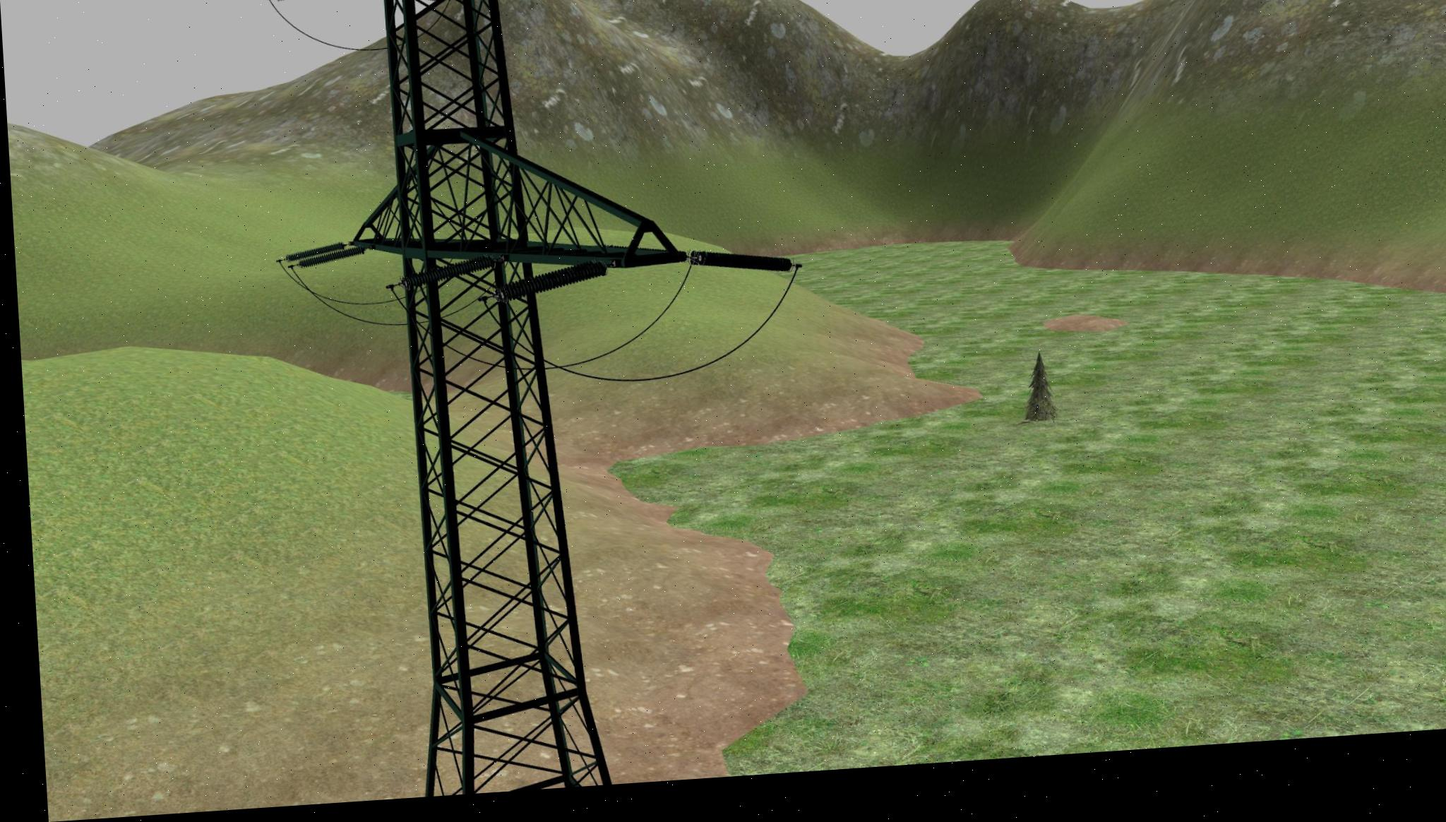tower: (371, 0, 704, 797)
